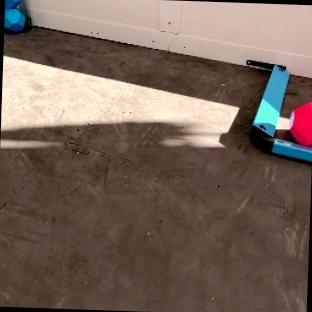V5_RED: (290, 101, 312, 145)
